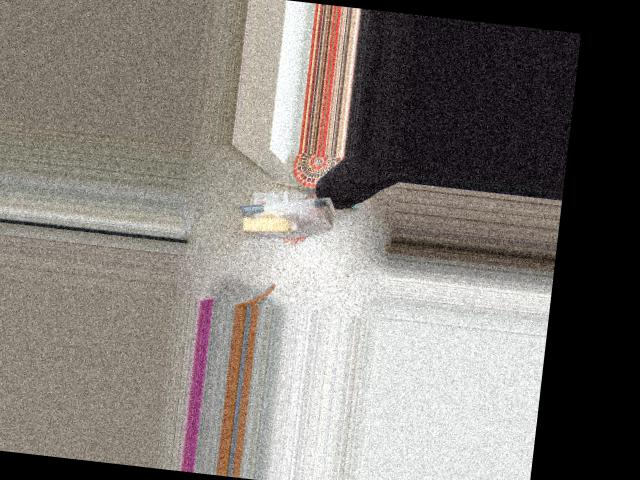cheese: (237, 184, 340, 246)
